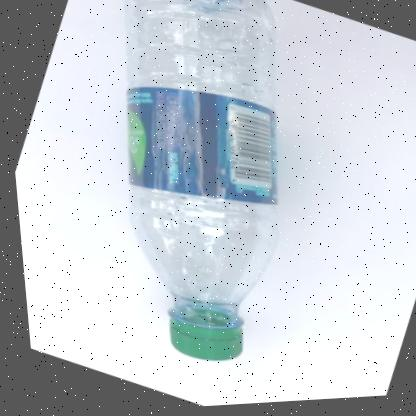Plastic: (123, 0, 272, 362)
